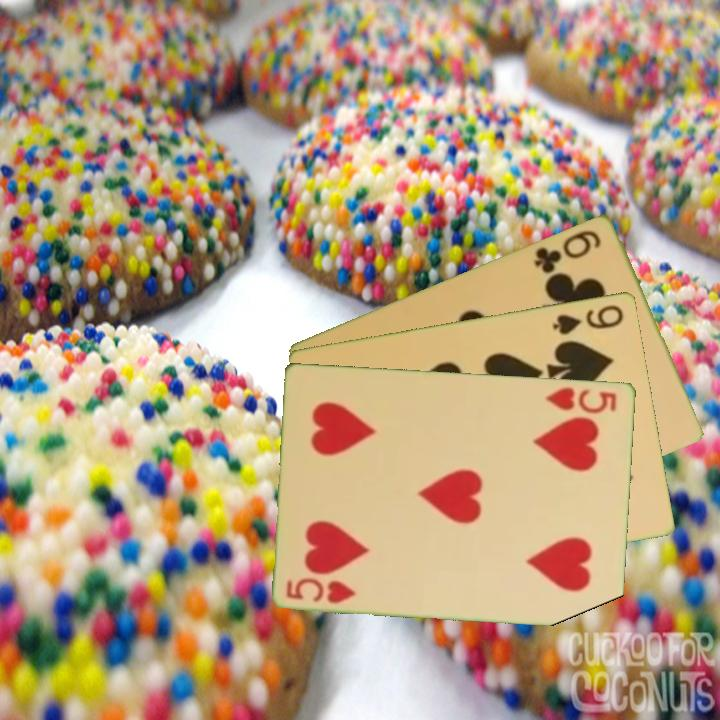5h: (542, 383, 620, 416), (283, 574, 359, 606)
6c: (531, 226, 604, 276)
9s: (550, 300, 627, 337)
